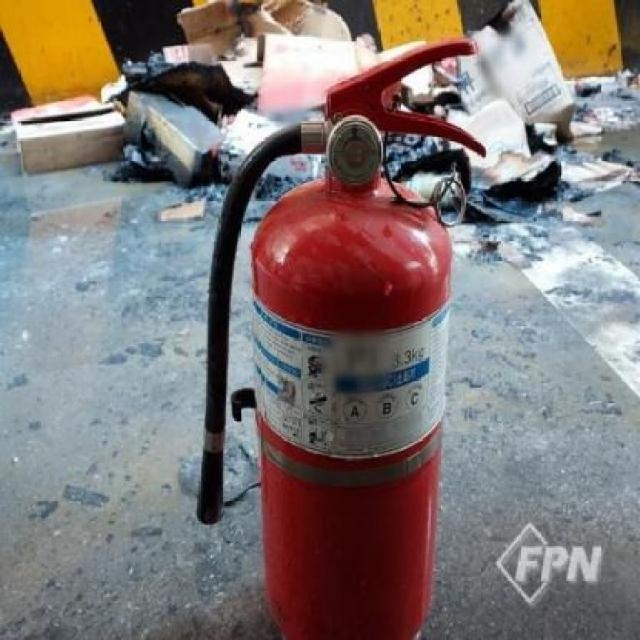fire extinguisher: (195, 35, 488, 640)
